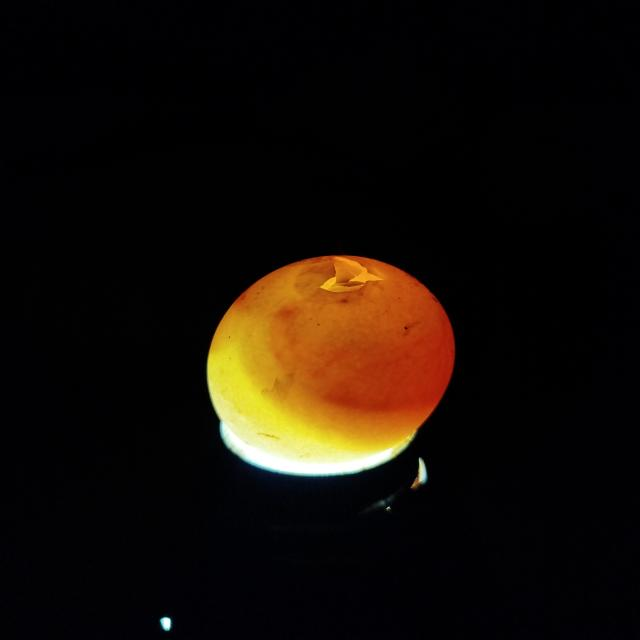Gema Quebrada: (321, 325, 458, 410)
